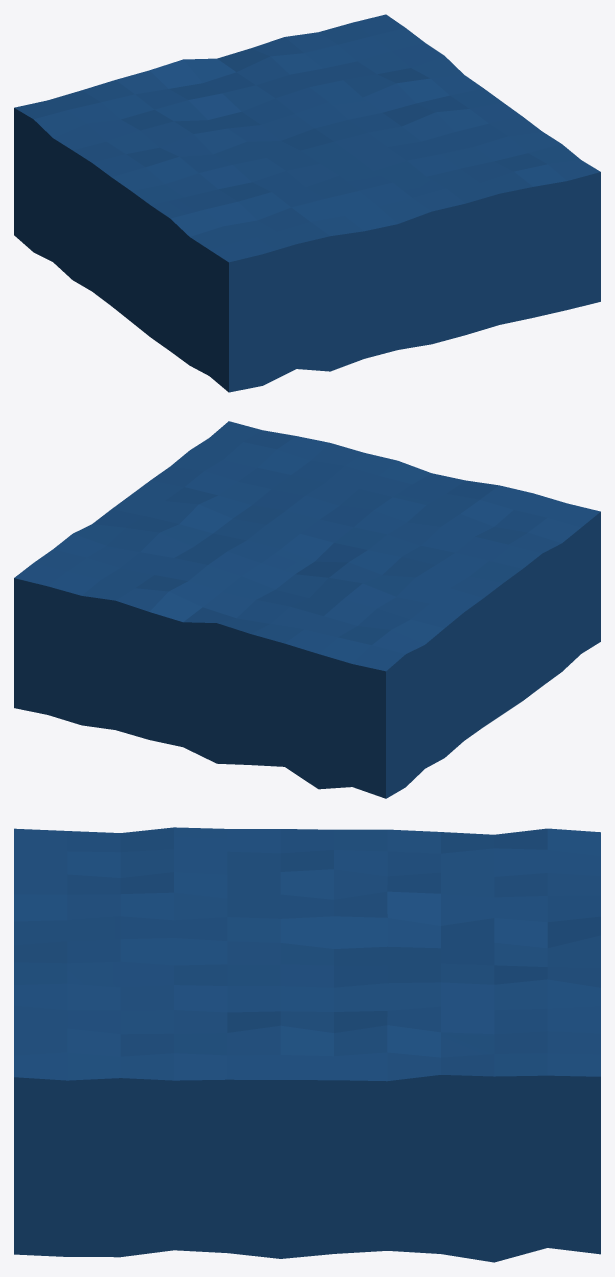
Rendered from PolyWater(test).fbx.
The picture shows the model from 3 angles, top to bottom: view 1: azimuth 30°, elevation 25°; view 2: azimuth 150°, elevation 25°; view 3: azimuth 270°, elevation 25°; orthographic projection. The views are drawn at different scales.
Visible parts, largest first — view 1: Cube; view 2: Cube; view 3: Cube.
Part boxes in pixels (left/top/right/bottom): Cube: left=14, top=14, right=600, bottom=392; Cube: left=14, top=421, right=600, bottom=798; Cube: left=14, top=827, right=600, bottom=1262.
Bounding box in the file's own units: 200 × 73.03 × 200.
Materials: 2 (1 with a texture image).
